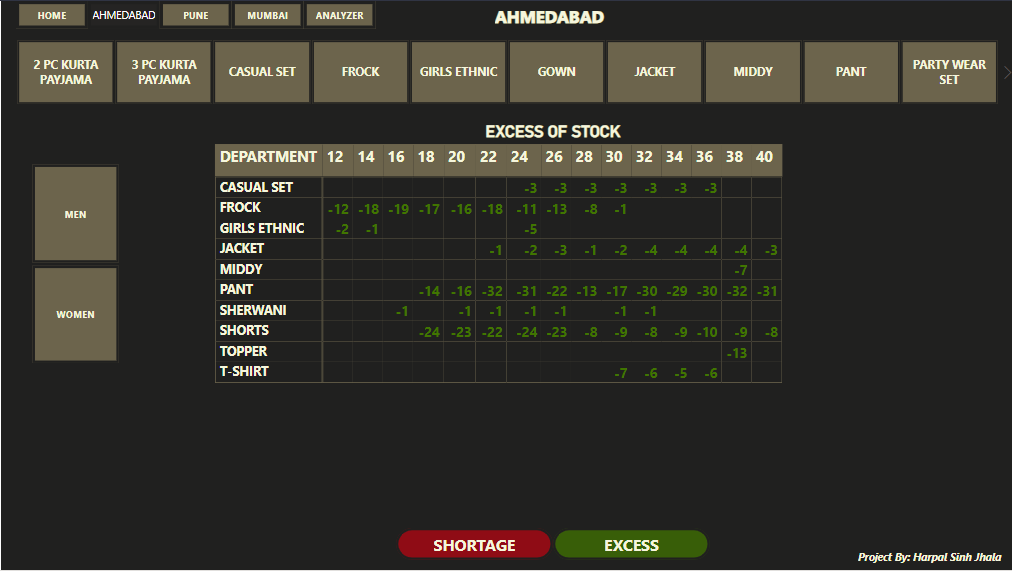

Layout of this report page (visuals, bound fields, positions):
{"tool":"powerbi","page":{"name":"AHMEDABAD","canvas":[1280,720],"ordinal":1},"visuals":[{"type":"slicer","fields":{"Values":["MINIMUM.Department"]},"box":[0,48.2,1279.8,83.6],"z":0},{"type":"textbox","box":[619.4,0,158.2,47.8],"z":1000},{"type":"textbox","box":[1173.6,694.1,106.6,25.9],"z":2000},{"type":"textbox","box":[1079.1,689.6,201.5,29.9],"z":3000},{"type":"slicer","title":"DIVISION","fields":{"Values":["MINIMUM.Division"]},"box":[18.4,205.5,148.8,255.1],"z":4000},{"type":"actionButton","box":[698.5,667.2,198.5,40.3],"z":6000},{"type":"actionButton","box":[500,667.2,198.5,40.3],"z":7000},{"type":"pivotTable","title":"EXCESS OF STOCK","fields":{"Columns":["MINIMUM.SIZE"],"Rows":["MINIMUM.Department"],"Values":["MINIMUM.subtract"]},"box":[265.9,153.2,865.4,457.5],"z":8000},{"type":"pageNavigator","box":[18.4,0,457.8,35.4],"z":9000}]}

Visuals, with their boxes in screenshot pixels (x1, y1, x2, y2), scaled from the page's 1280x720 canvas onto the 1012x571 screenshot:
slicer - MINIMUM.Department: <box>0,38,1011,105</box>
textbox: <box>490,0,615,38</box>
textbox: <box>928,550,1011,570</box>
textbox: <box>853,547,1011,570</box>
"DIVISION" slicer: <box>15,163,132,365</box>
actionButton: <box>552,529,709,561</box>
actionButton: <box>395,529,552,561</box>
"EXCESS OF STOCK" pivotTable: <box>210,121,894,484</box>
pageNavigator: <box>15,0,376,28</box>
